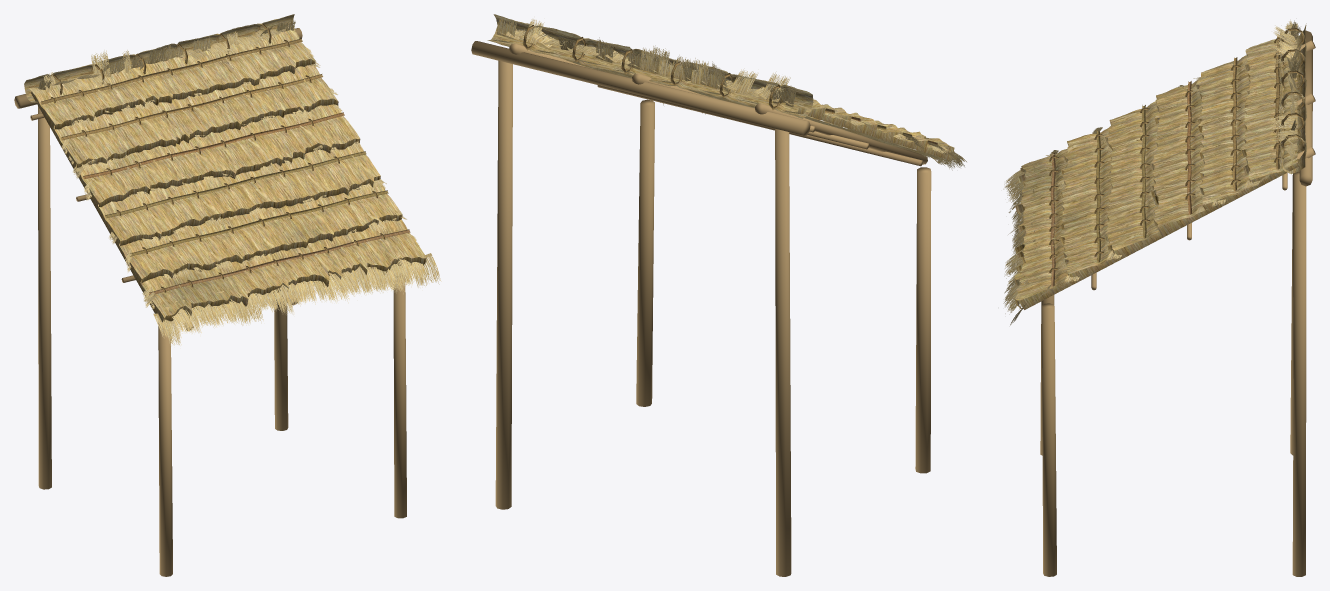
The model's file is thatch_panel.glb.
3 renders of one model, left to right at view 1: azimuth 30°, elevation 25°; view 2: azimuth 150°, elevation 25°; view 3: azimuth 270°, elevation 25°, orthographic. The views are drawn at different scales.
Parts seen in each view (by area): view 1: hb_thatch, hb_wood, hb_thatch_cards; view 2: hb_wood, hb_thatch, hb_thatch_cards; view 3: hb_thatch, hb_wood, hb_thatch_cards.
Boxes of the visible parts, x1,y1,x2,y2 form: hb_thatch: [24, 14, 426, 322]; hb_wood: [14, 28, 406, 576]; hb_thatch_cards: [28, 20, 441, 345]; hb_wood: [471, 41, 931, 576]; hb_thatch: [487, 14, 954, 162]; hb_thatch_cards: [497, 16, 966, 170]; hb_thatch: [1014, 23, 1306, 309]; hb_wood: [1020, 30, 1315, 576]; hb_thatch_cards: [1003, 19, 1302, 325].
Bounding box in the file's own units: 2.16 × 3.1 × 2.02.
Materials: 3 (2 with a texture image).
